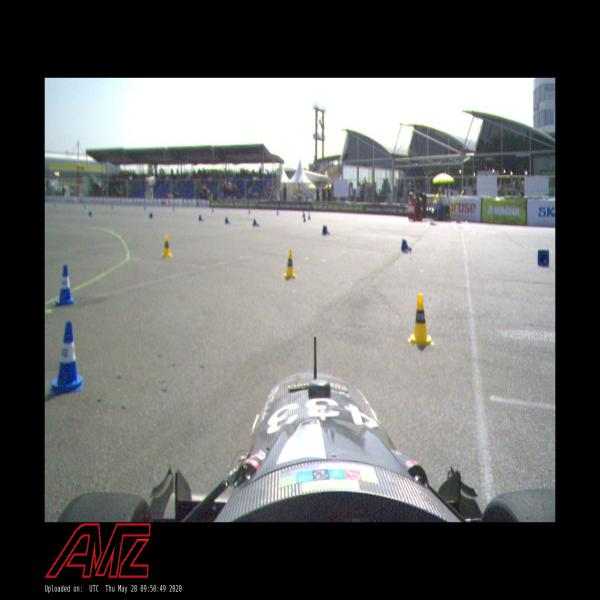blue_cone: (49, 320, 84, 393), (54, 263, 76, 308), (400, 237, 414, 254), (538, 249, 550, 268), (322, 225, 330, 236), (252, 219, 260, 227), (224, 216, 231, 225), (198, 215, 204, 222)
yellow_cone: (409, 293, 433, 347), (283, 249, 297, 279), (160, 234, 173, 259)
